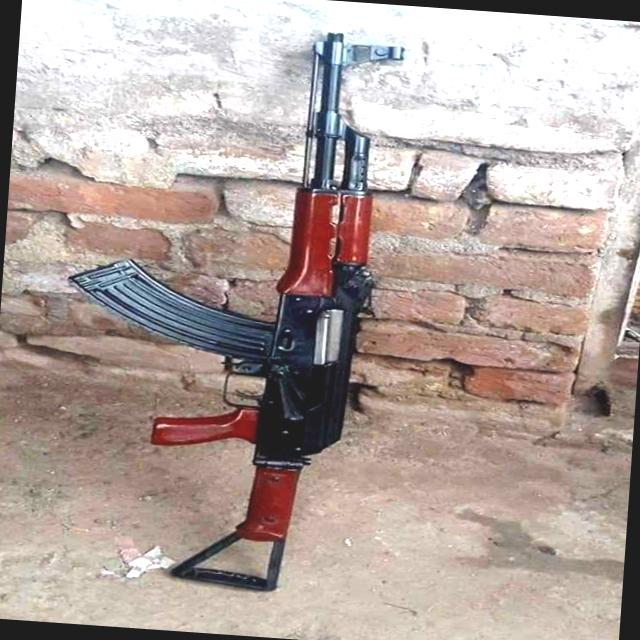ak: (41, 14, 415, 602)
